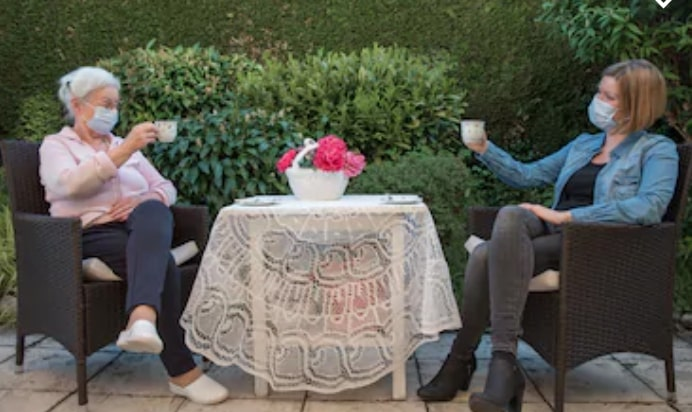Caution: (38, 58, 678, 411)
